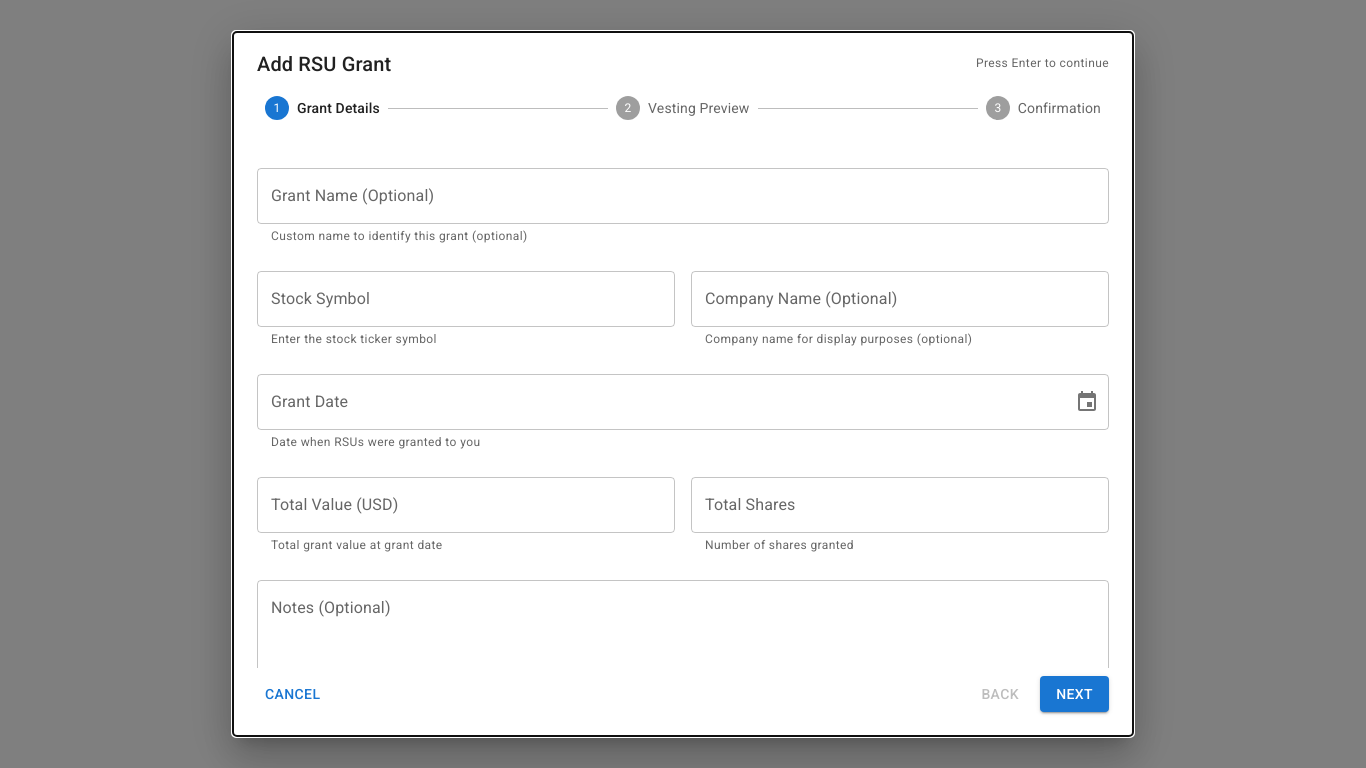
Scenario: AddGrantWizard › Form Validation › should validate stock symbol field
// Fill only stock symbol to test next validation step
Type "MSFT" into the field labelled "Stock Symbol" at (466, 299), box [257,271,675,327]
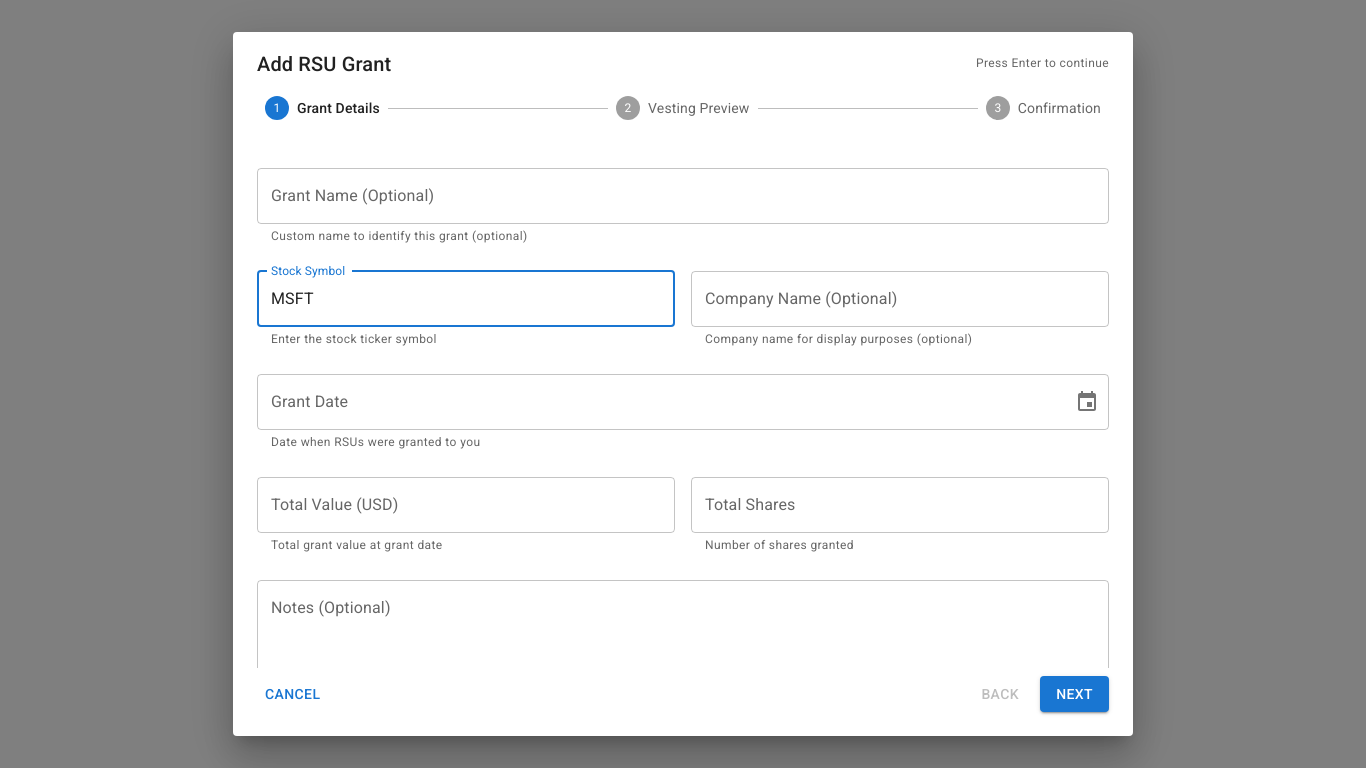
Click the button "Next" at (1075, 694), box [1040,676,1109,712]
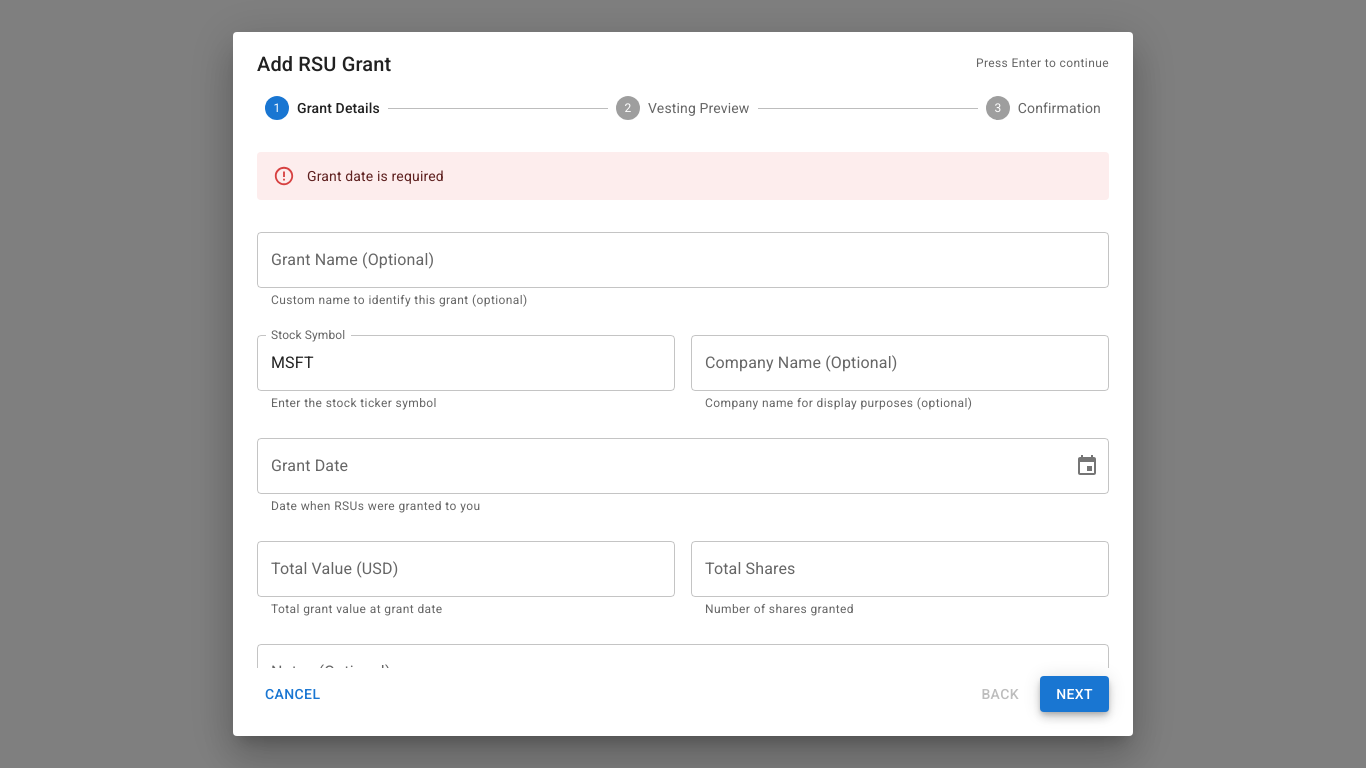
Expected: the text "Grant date is required" is shown, [307,168,444,184]
